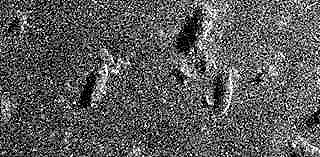ship: (188, 5, 213, 54), (87, 63, 110, 108), (215, 74, 233, 118)
